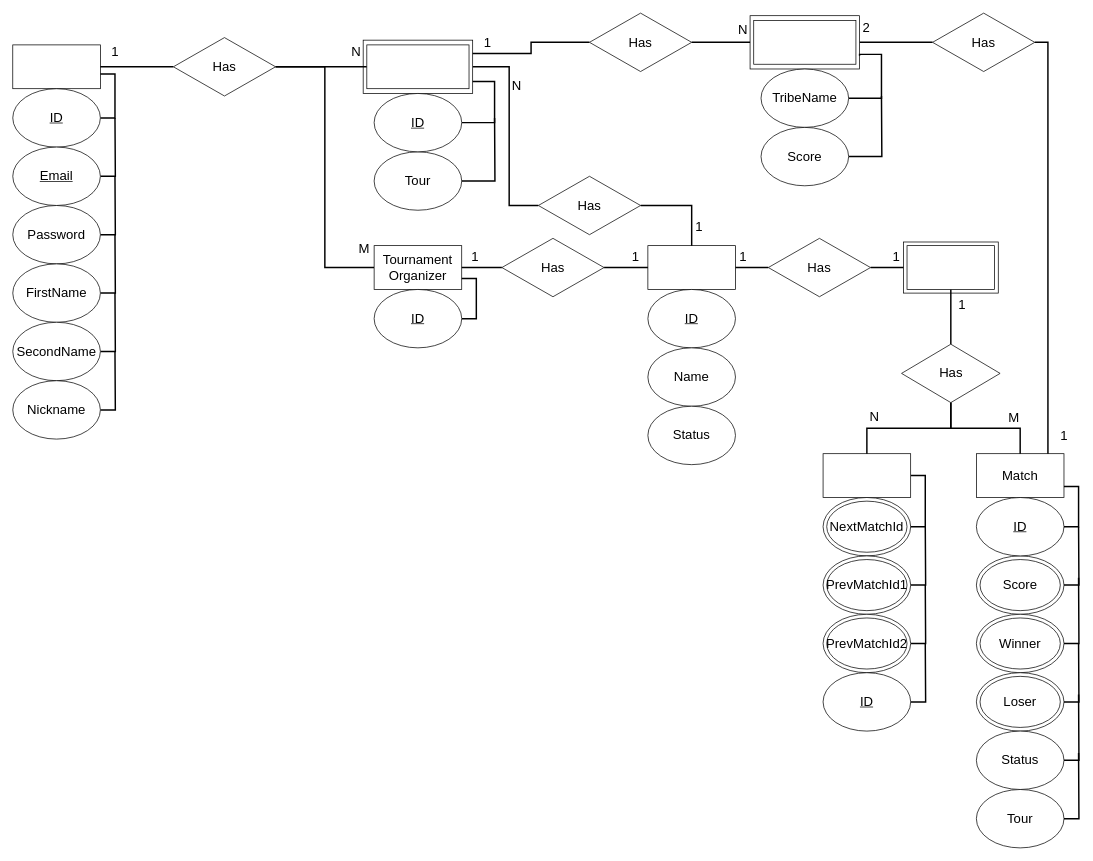
The diagram is 1093 pixels wide and 861 high, and some of its shapes have lost their labels. The shapes that lost their labels are listed below. From the top down, each one's centre as x and y in pixels, then its label:
At point (804, 42): "Match Participant".
At point (56, 66): "User".
At point (417, 66): "Tournament Participant".
At point (691, 267): "Tournament".
At point (950, 267): "Grid".
At point (866, 475): "MatchLinks".
